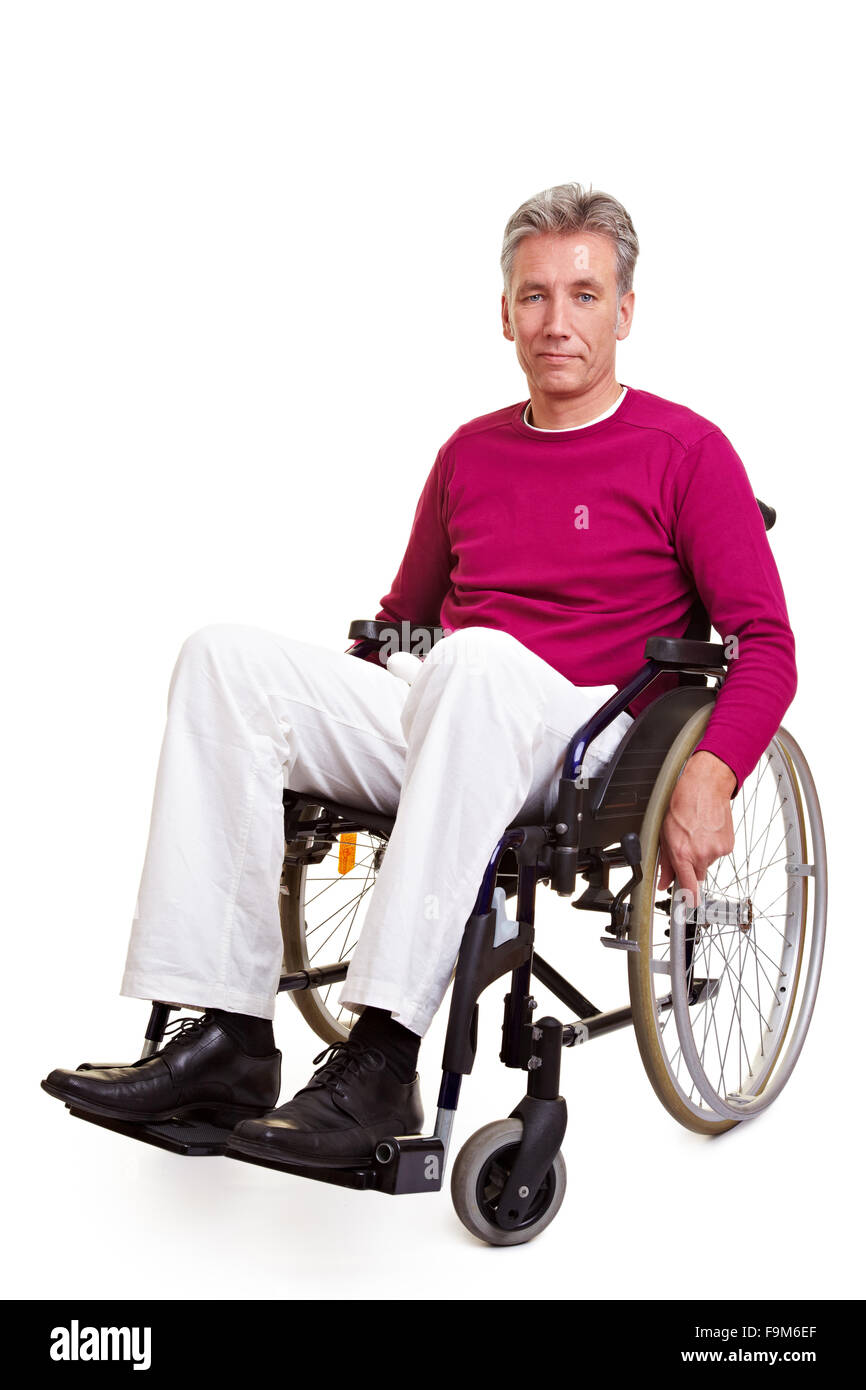wheelchair: (33, 181, 838, 1253)
